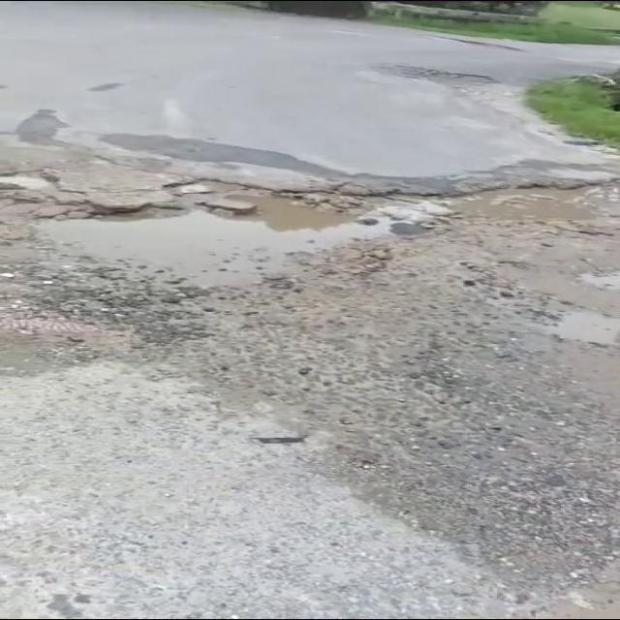lubang: (159, 157, 593, 527), (25, 188, 234, 229)
